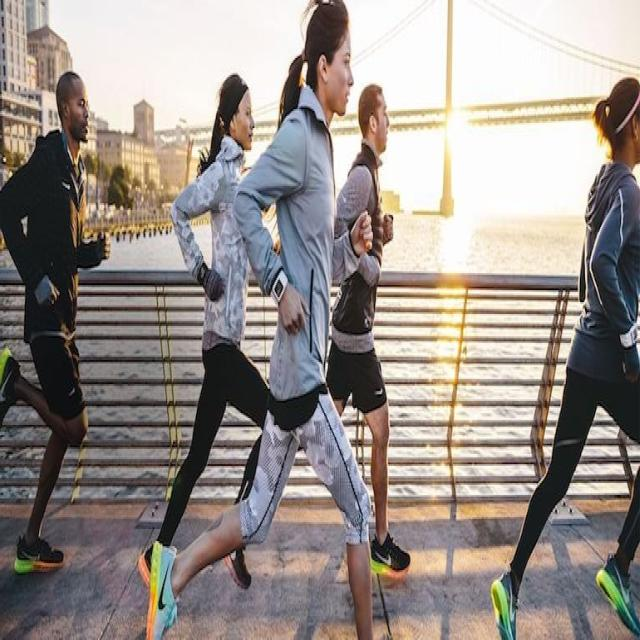nike: (155, 555, 175, 620), (612, 562, 634, 602), (0, 359, 14, 404), (508, 578, 518, 629), (372, 548, 392, 569), (59, 170, 74, 193), (372, 381, 387, 402)
